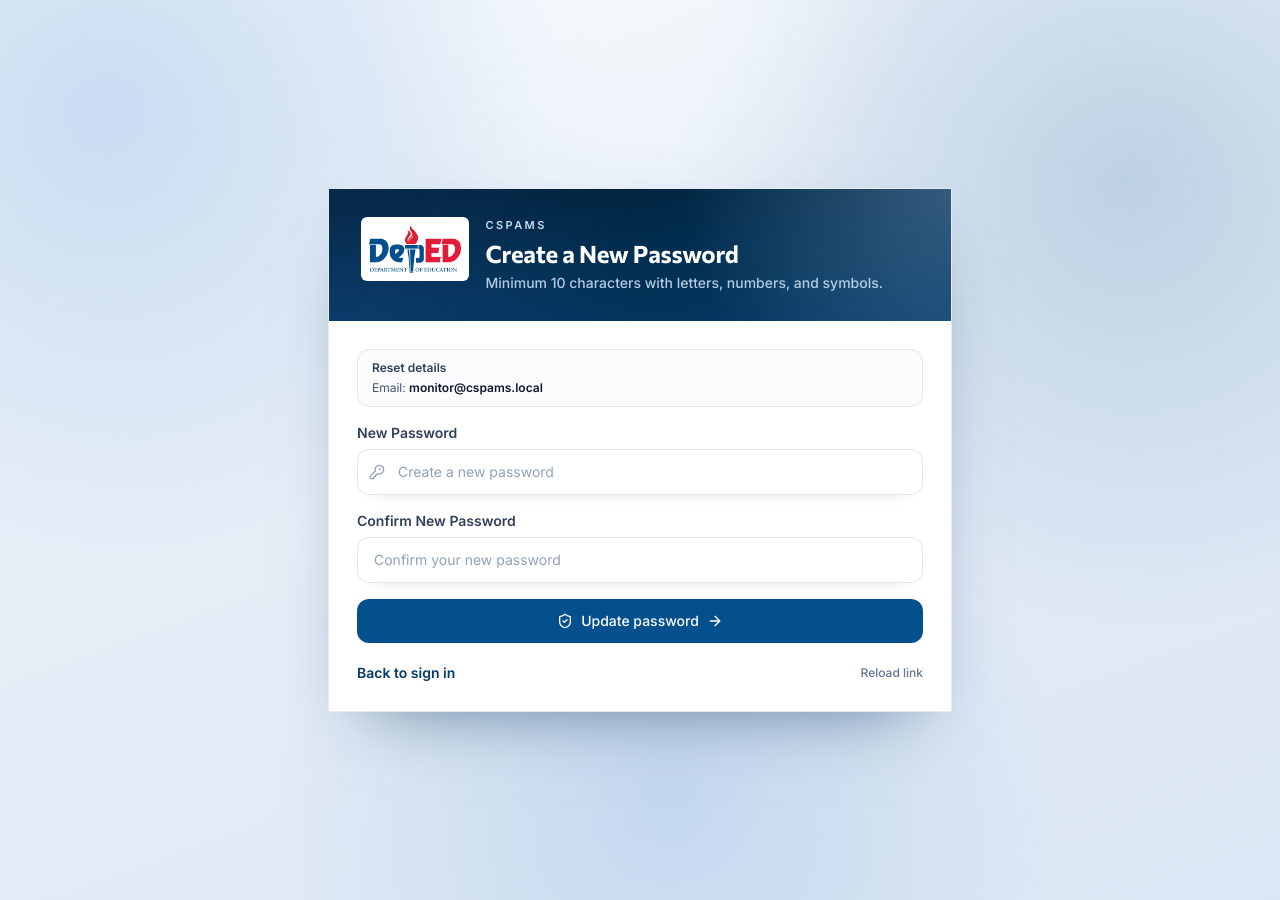
auth recovery service-unavailable errors › maps reset-password bare 503 failures to safe copy
Type "Demo@123456" into the password field labelled "New Password". click: (640, 472)
box: [357,448,923,494]
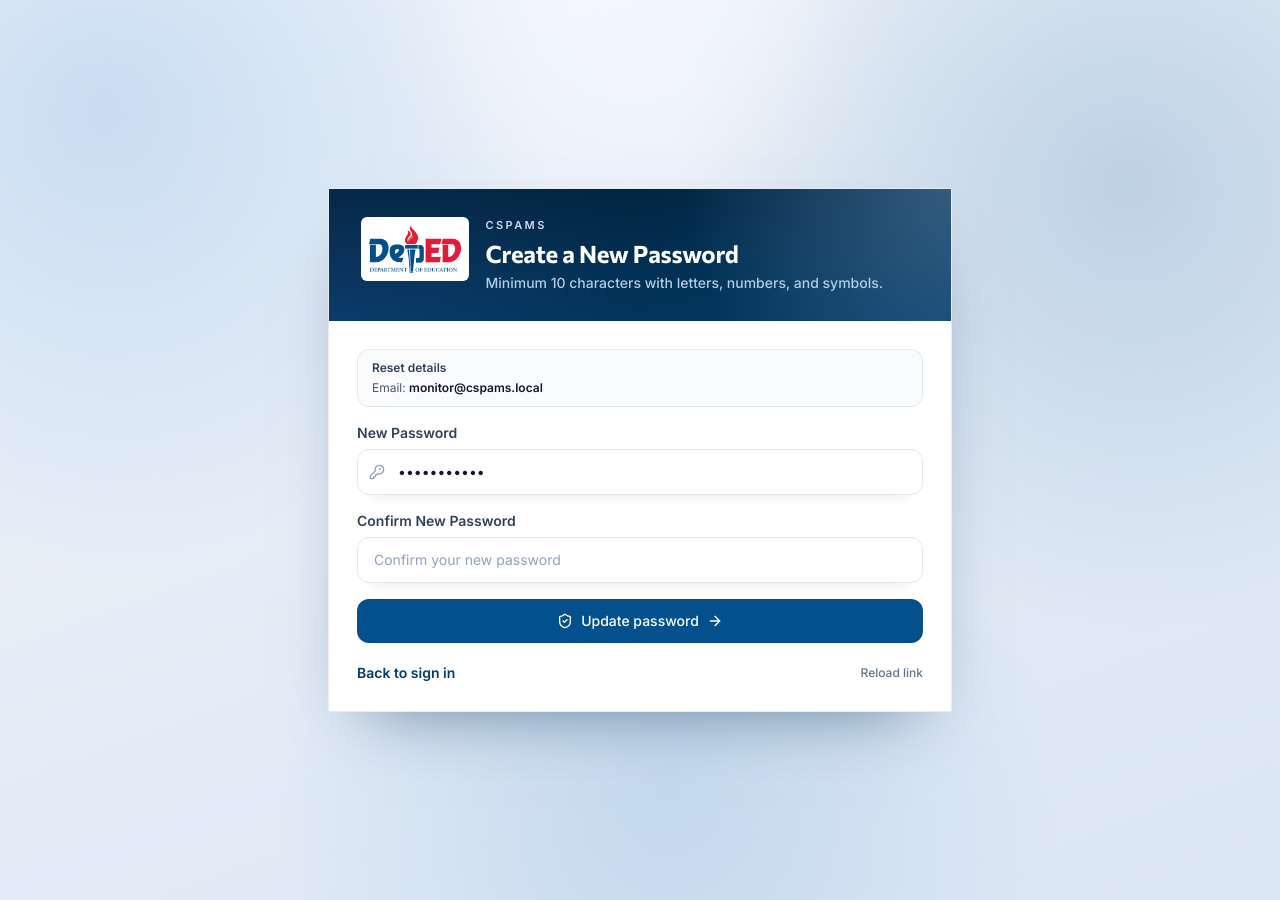
Type "Demo@123456" into the password field labelled "Confirm New Password". click: (640, 560)
box: [357,536,923,582]
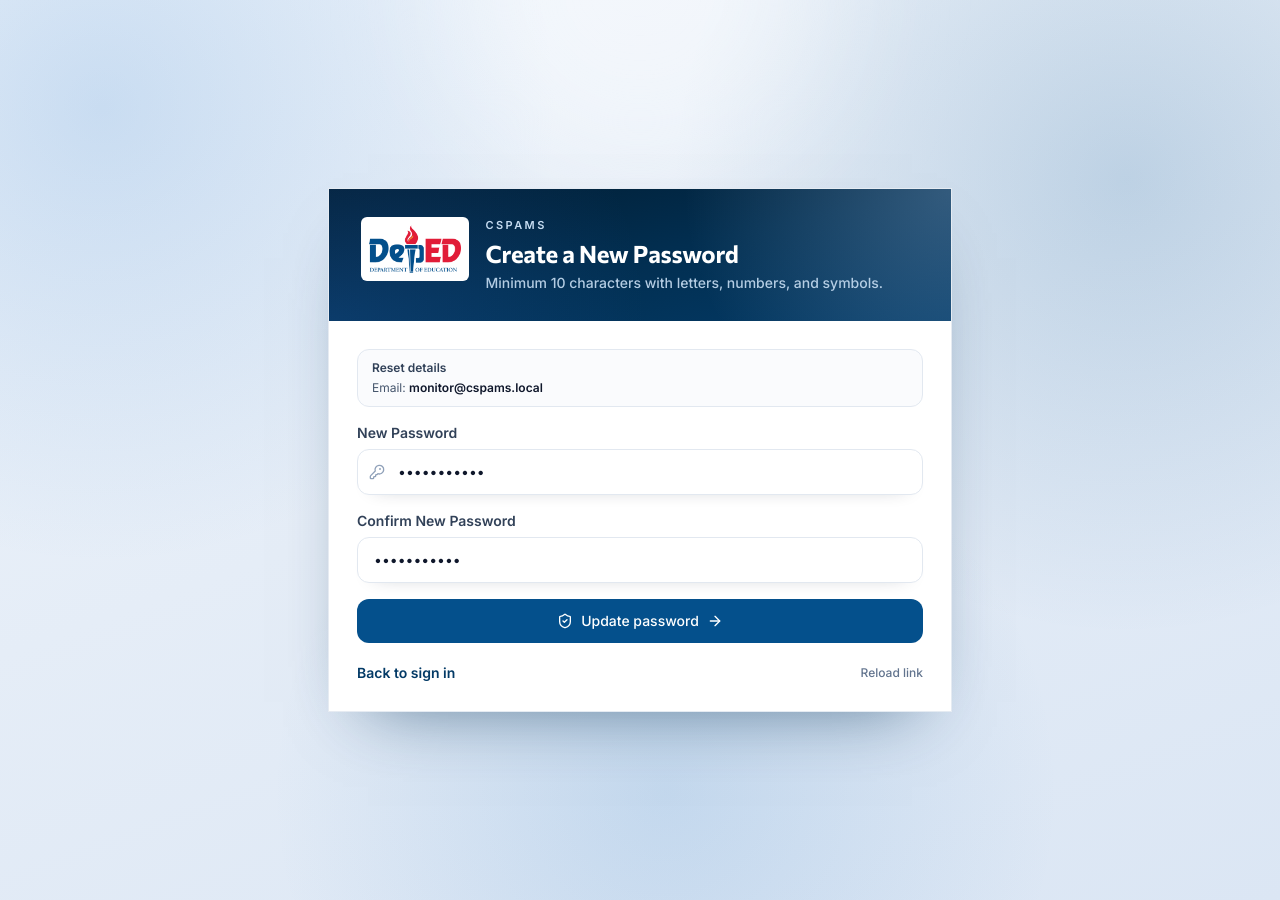
Submit the form named "update password", box [357,348,923,642]
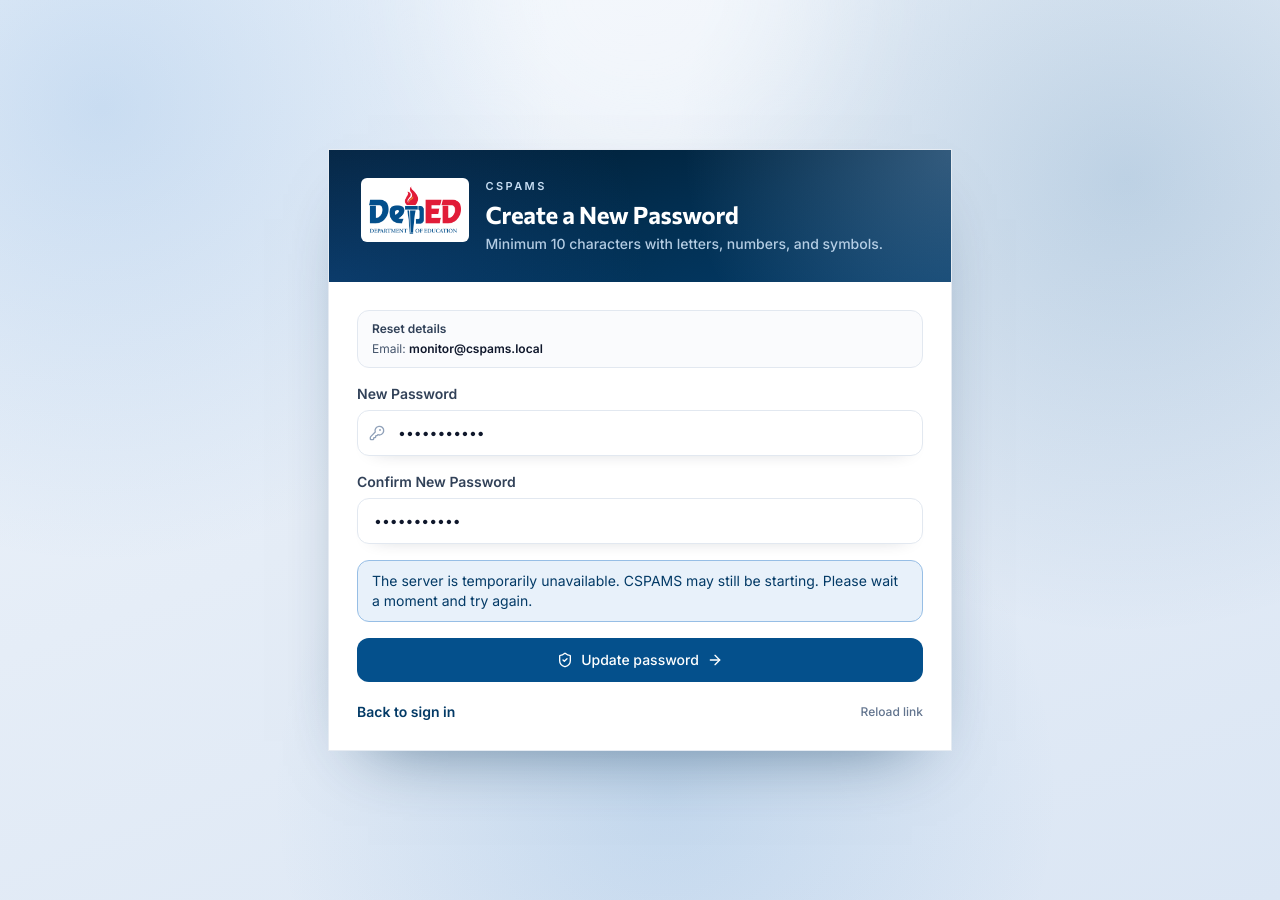
Result: the text "The server is temporarily unavailable. CSPAMS may still be starting. Please wait a moment and try again." is shown at [372,572,898,608]
